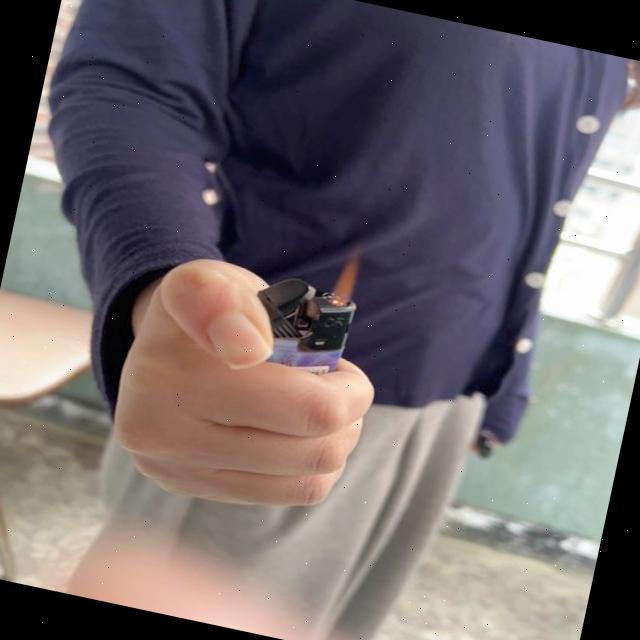fire: (322, 246, 364, 312)
